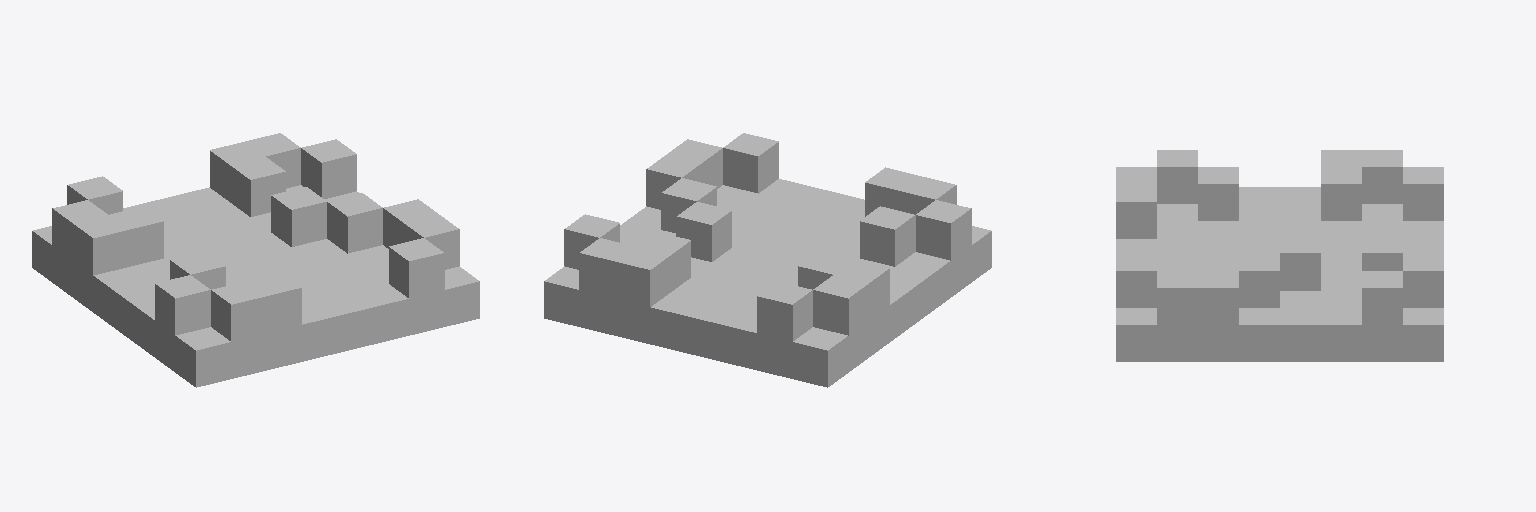
File: YellowText3.obj
3 views of the same model, side by side, from view 1: azimuth 30°, elevation 25°; view 2: azimuth 150°, elevation 25°; view 3: azimuth 270°, elevation 25° (orthographic).
Visible parts, largest first — view 1: object 1; view 2: object 1; view 3: object 1.
Boxes of the visible parts, <box> form: object 1: <box>32,133,479,387</box>; object 1: <box>544,133,991,387</box>; object 1: <box>1116,150,1443,361</box>.
Size of the model in its own units: 0.8 by 0.2 by 0.8.